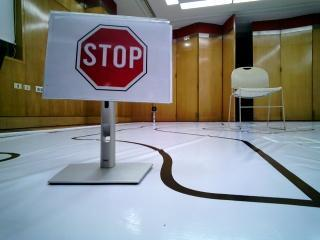stop: (64, 19, 154, 94)
